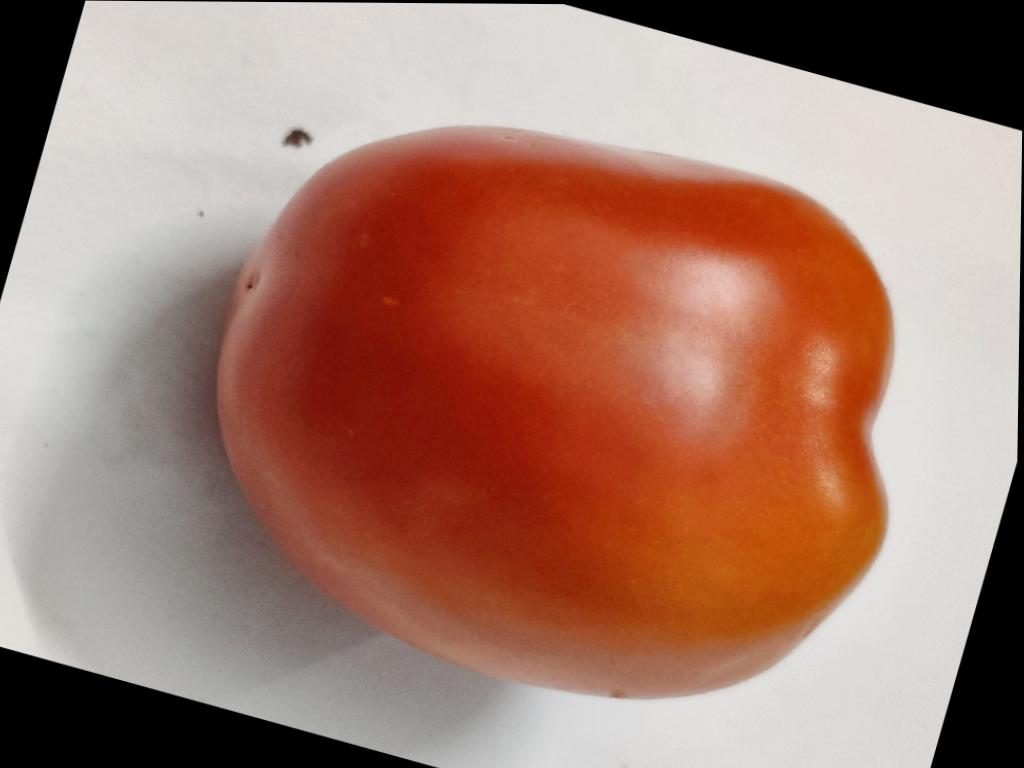tomato: (218, 127, 893, 698)
